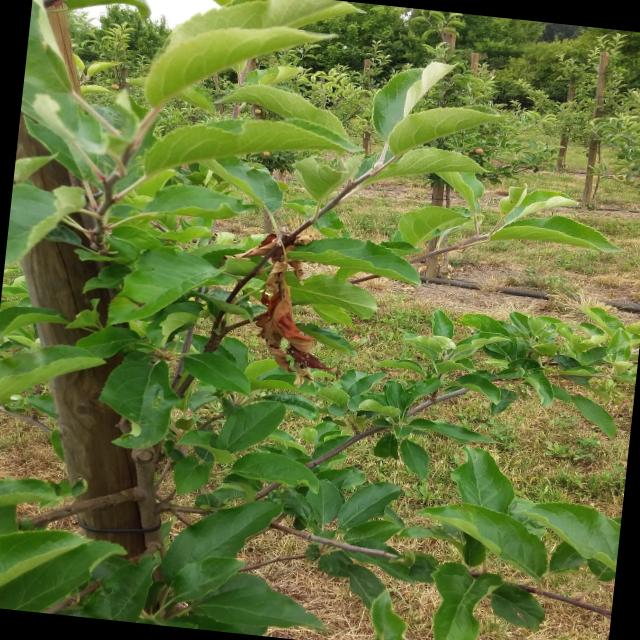-FireBlight-: (234, 200, 338, 380)
